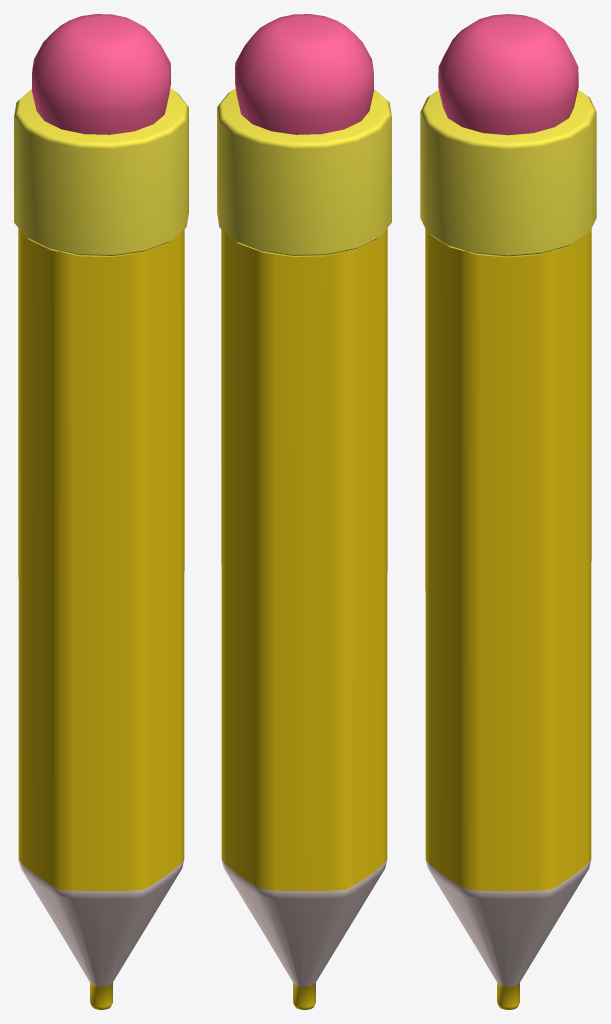
The model's file is Public_2_Pencil_2.glb.
3 views of the same model, side by side, from view 1: azimuth 30°, elevation 25°; view 2: azimuth 150°, elevation 25°; view 3: azimuth 270°, elevation 25° (orthographic).
Parts seen in each view (by area): view 1: Public_2_Pencil_2; view 2: Public_2_Pencil_2; view 3: Public_2_Pencil_2.
Boxes of the visible parts, x1,y1,x2,y2 form: Public_2_Pencil_2: (14,14,188,1009); Public_2_Pencil_2: (217,14,391,1009); Public_2_Pencil_2: (420,14,596,1009).
Bounding box in the file's own units: 0.2801 × 1.72 × 0.2801.
Materials: 1 (1 with a texture image).
